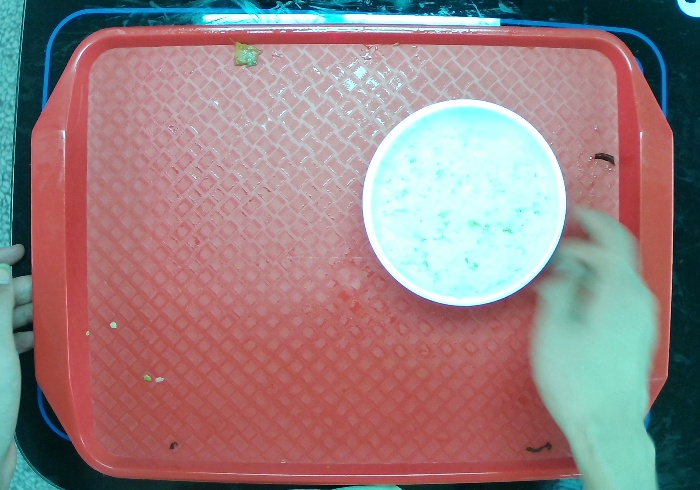YKMZ-Fan_Wan: (355, 103, 574, 317)
